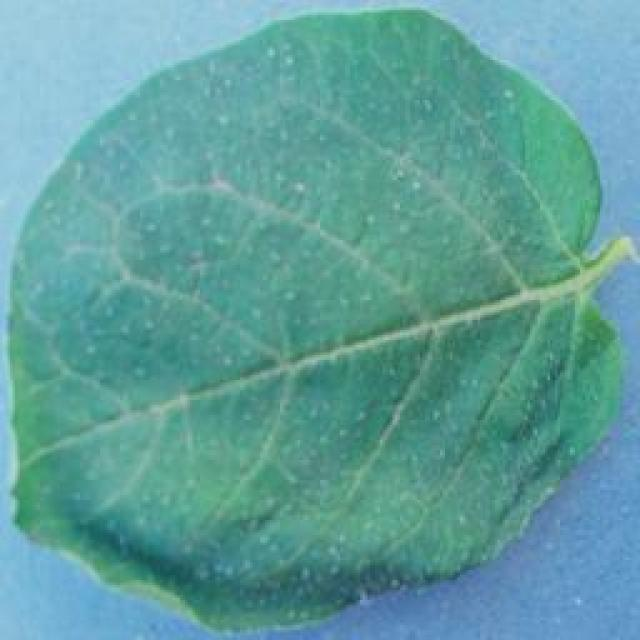Potato_Healthy: (6, 11, 624, 630)
